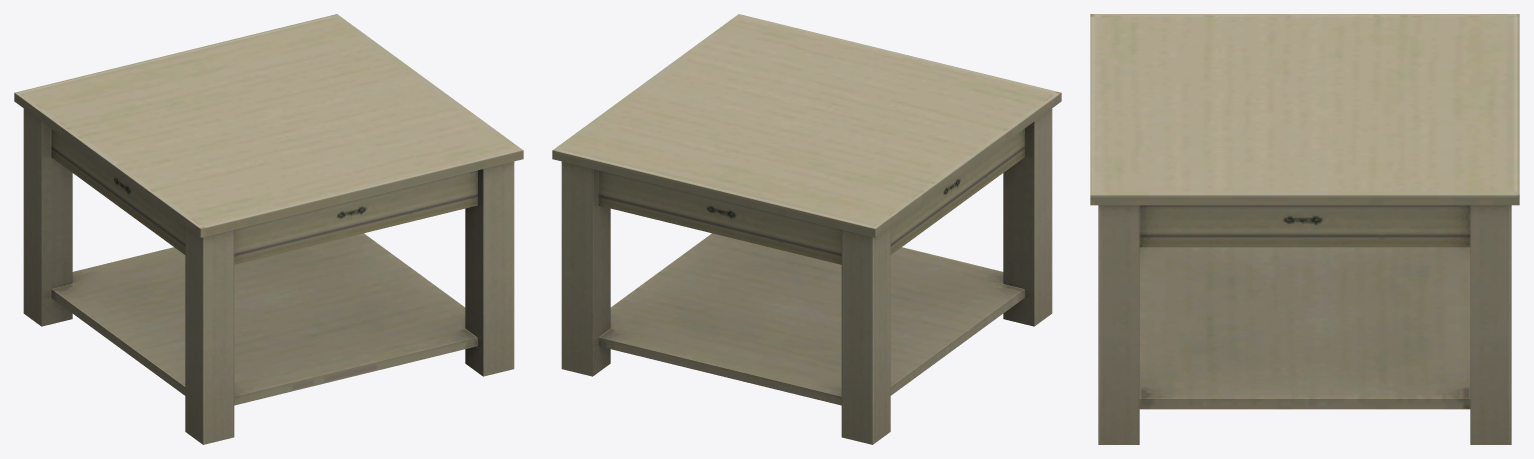
Rendered from furni_0200487.FBX.
3 renders of one model, left to right at view 1: azimuth 30°, elevation 25°; view 2: azimuth 150°, elevation 25°; view 3: azimuth 270°, elevation 25°, orthographic. The views are drawn at different scales.
Parts seen in each view (by area): view 1: furni_0200487; view 2: furni_0200487; view 3: furni_0200487.
Boxes of the visible parts, x1,y1,x2,y2 form: furni_0200487: (14,14,523,444); furni_0200487: (552,14,1061,444); furni_0200487: (1090,14,1519,444).
Size of the model in its own units: 76.85 by 50 by 76.85.
1 material, 1 textured.
